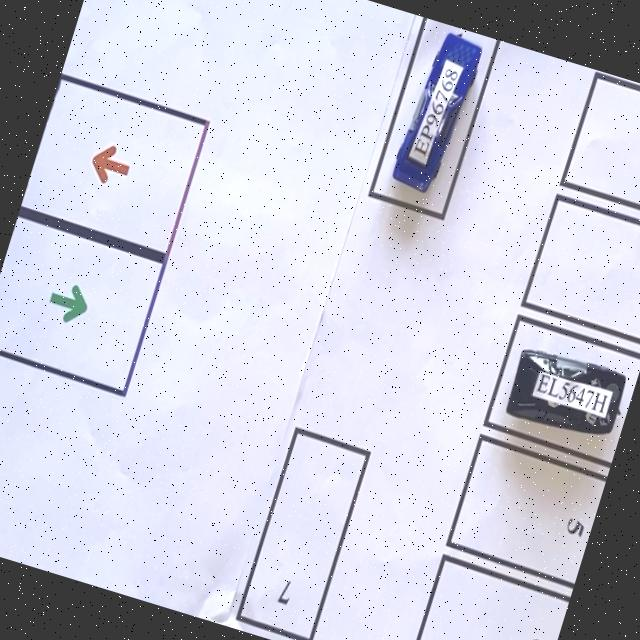car: (393, 33, 482, 192), (506, 351, 625, 434)
